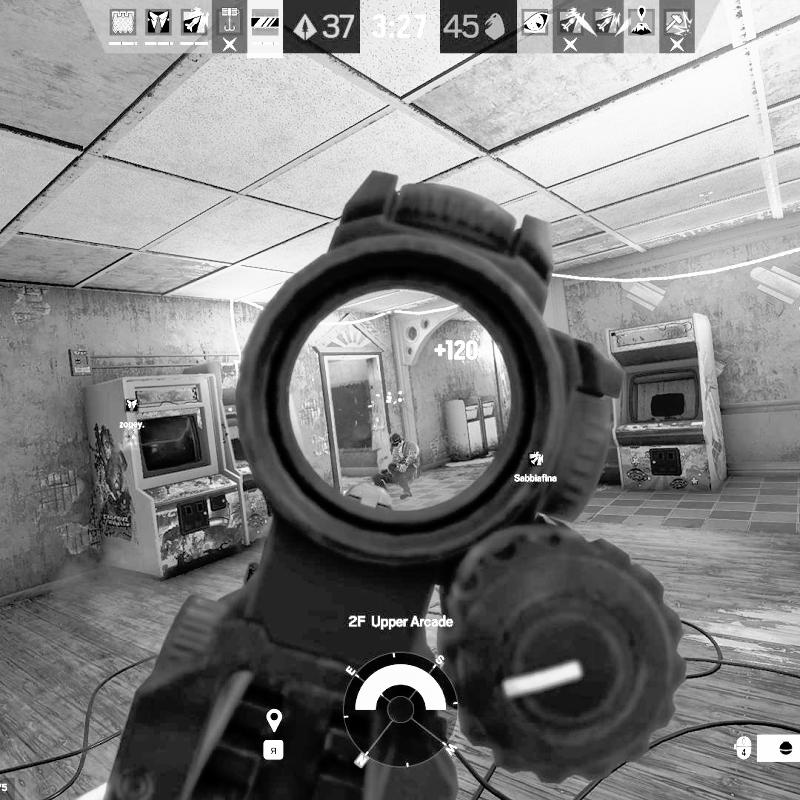Character: (372, 430, 424, 501)
Friend_label: (513, 451, 560, 483), (118, 397, 145, 430)
Head: (390, 432, 403, 450)
